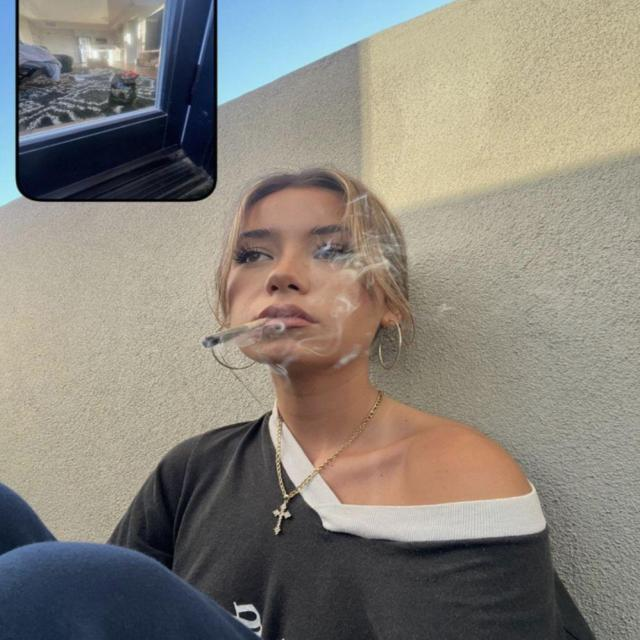cigarette: (195, 310, 279, 358)
